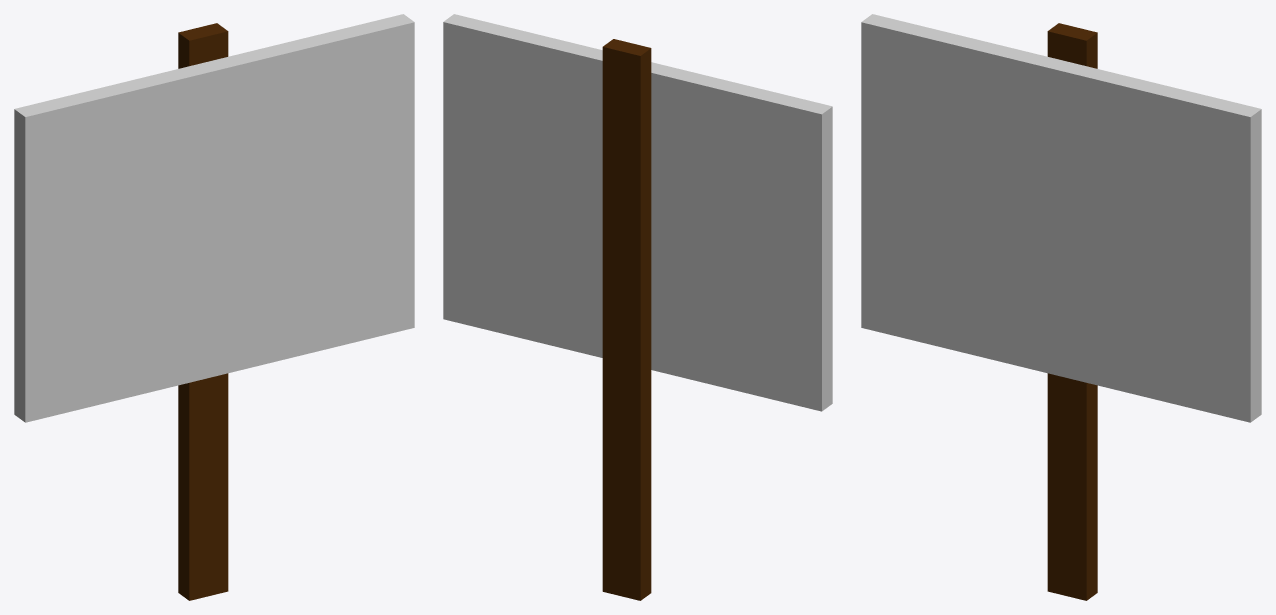
File: Picket-Sign.fbx
3 renders of one model, left to right at view 1: azimuth 30°, elevation 25°; view 2: azimuth 150°, elevation 25°; view 3: azimuth 330°, elevation 25°, orthographic. The views are drawn at different scales.
Visible parts, largest first — view 1: pCube3; view 2: pCube3; view 3: pCube3.
Boxes of the visible parts, x1,y1,x2,y2 form: pCube3: [14, 14, 414, 600]; pCube3: [443, 14, 832, 600]; pCube3: [861, 14, 1261, 600].
Bounding box in the file's own units: 4 × 5.5 × 0.4.
